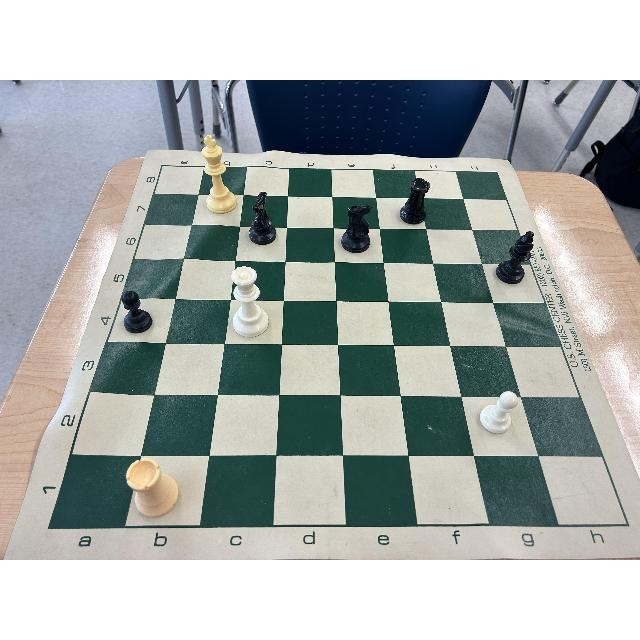black-bishop: (496, 229, 534, 285)
black-knight: (342, 204, 374, 254), (248, 192, 278, 244)
black-pawn: (122, 291, 154, 335)
black-rook: (399, 177, 430, 224)
white-king: (201, 134, 239, 214)
white-pawn: (478, 389, 518, 434)
white-queen: (230, 266, 270, 338)
white-rook: (125, 457, 180, 518)
